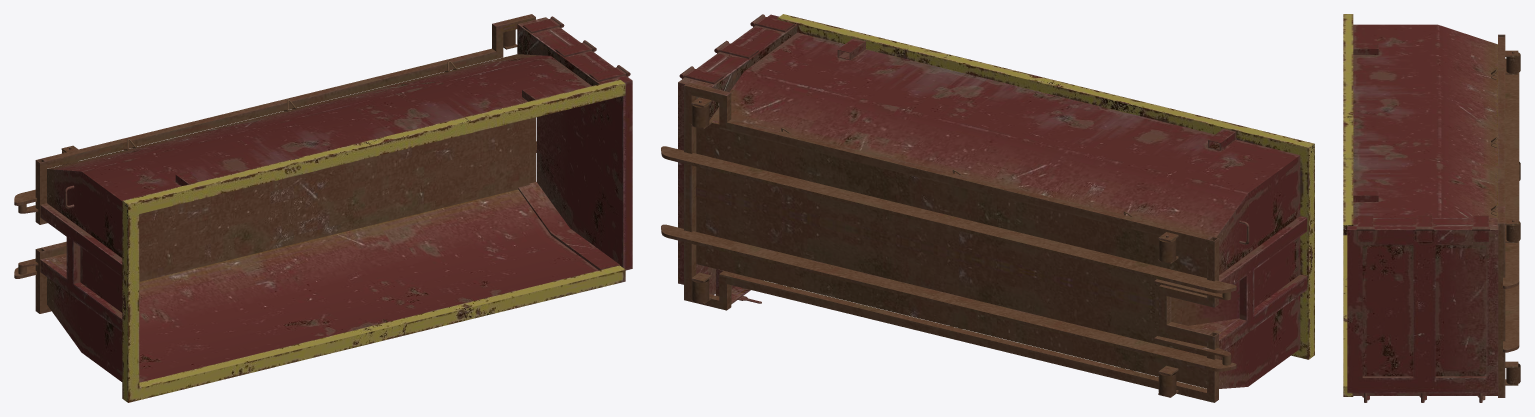
The picture shows the model from 3 angles, left to right: view 1: azimuth 30°, elevation 25°; view 2: azimuth 150°, elevation 25°; view 3: azimuth 270°, elevation 25°; orthographic projection. The views are drawn at different scales.
Parts seen in each view (by area): view 1: Box015.002; view 2: Box015.002; view 3: Box015.002.
Boxes of the visible parts, <box> form: Box015.002: <box>14,14,632,402</box>; Box015.002: <box>661,14,1314,402</box>; Box015.002: <box>1343,14,1520,402</box>.
Size of the model in its own units: 7.48 by 2.72 by 2.46.
Materials: 1 (1 with a texture image).
